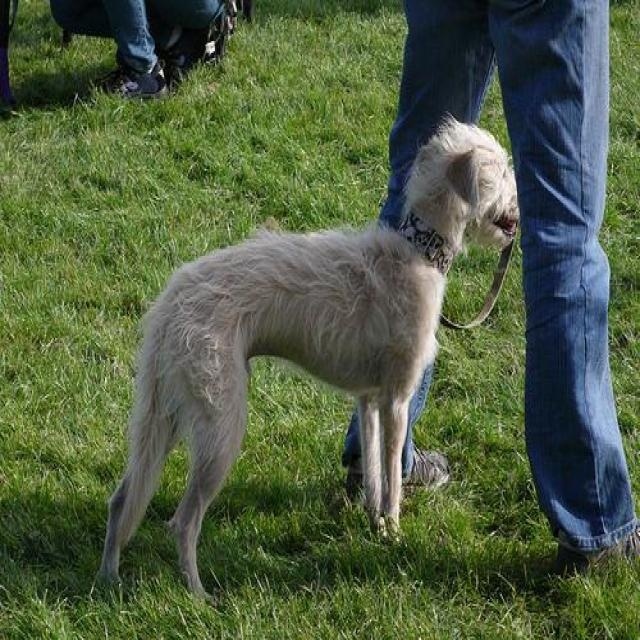Person: (341, 0, 640, 582), (87, 0, 228, 111)
